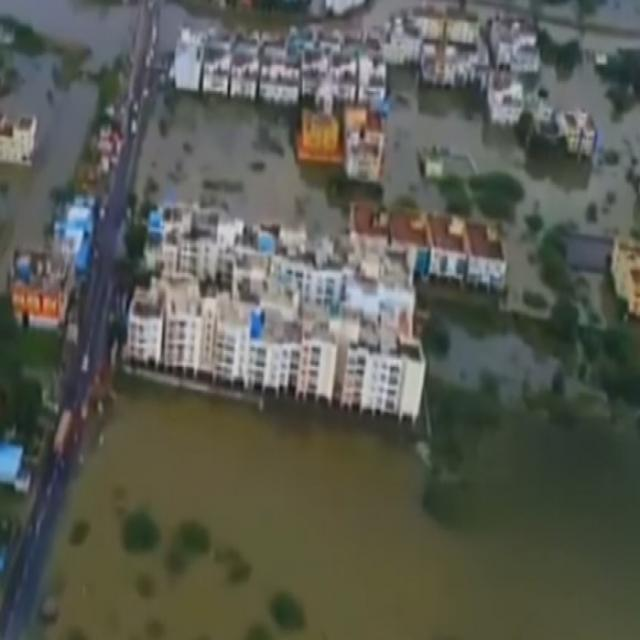flood: (36, 1, 640, 640), (0, 0, 138, 294), (158, 0, 424, 56)
house: (65, 237, 488, 416), (177, 20, 303, 111), (418, 210, 512, 299), (411, 5, 486, 84), (612, 228, 640, 330)
